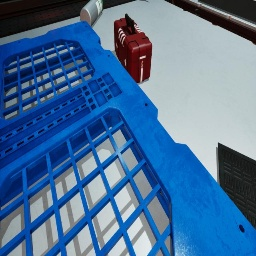0: (80, 0, 104, 27)
FirstAidBox ,: (114, 13, 152, 83)
